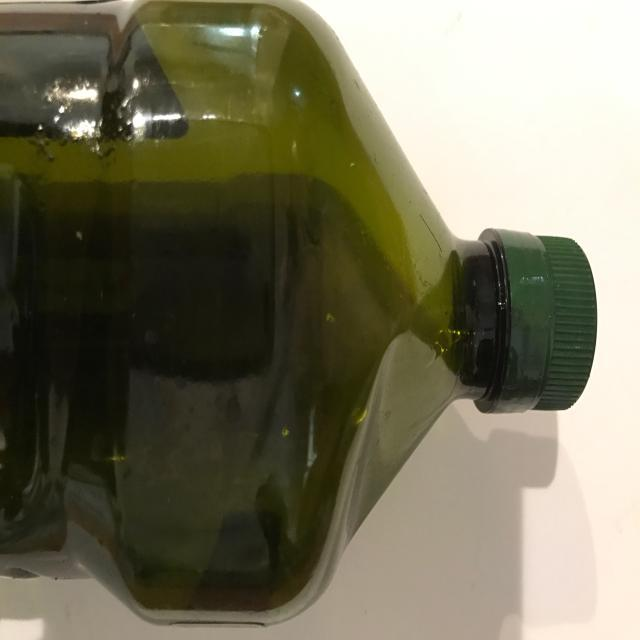plastic: (1, 1, 598, 628)
